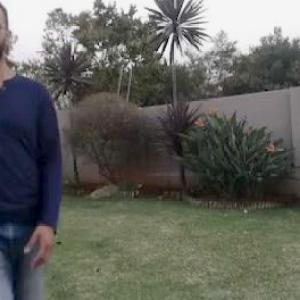follow: (1, 10, 71, 299)
